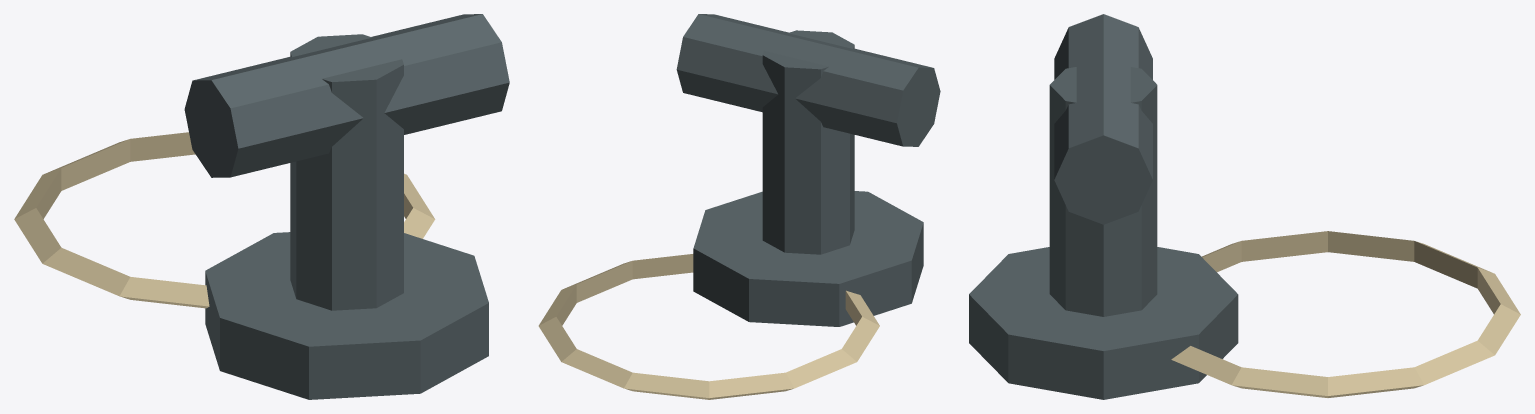
File: mooring.glb
3 views of the same model, side by side, from view 1: azimuth 30°, elevation 25°; view 2: azimuth 150°, elevation 25°; view 3: azimuth 270°, elevation 25° (orthographic). The views are drawn at different scales.
Visible parts, largest first — view 1: Base, Crossbar, Stem, Ring; view 2: Base, Crossbar, Stem, Ring; view 3: Base, Crossbar, Ring, Stem.
Boxes of the visible parts, <box> form: Base: <box>205,232,488,399</box>; Crossbar: <box>184,14,509,177</box>; Stem: <box>290,34,403,310</box>; Ring: <box>14,132,435,308</box>; Base: <box>693,191,923,326</box>; Crossbar: <box>676,14,940,146</box>; Stem: <box>762,30,854,254</box>; Ring: <box>538,254,879,399</box>; Base: <box>969,247,1238,399</box>; Crossbar: <box>1054,14,1152,224</box>; Ring: <box>1171,231,1520,397</box>; Stem: <box>1049,67,1157,316</box>.
Size of the model in its own units: 0.86 by 0.66 by 1.23.
